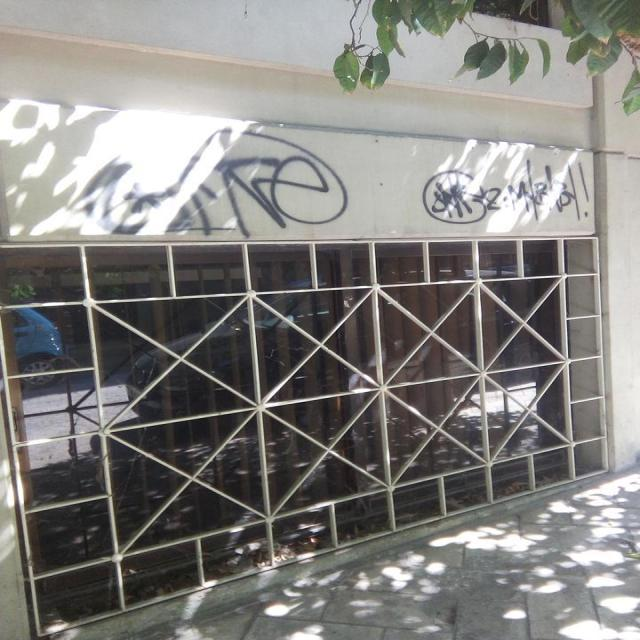nonspitting: (88, 129, 349, 239), (424, 157, 594, 226)
